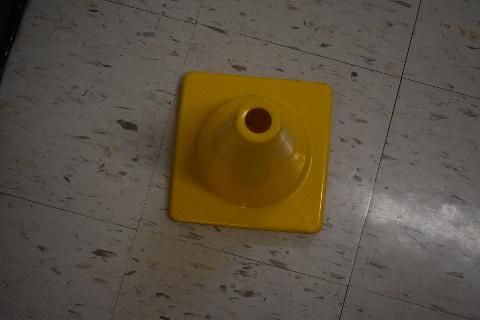cone: (168, 70, 334, 236)
